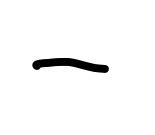minus: (32, 57, 109, 75)
